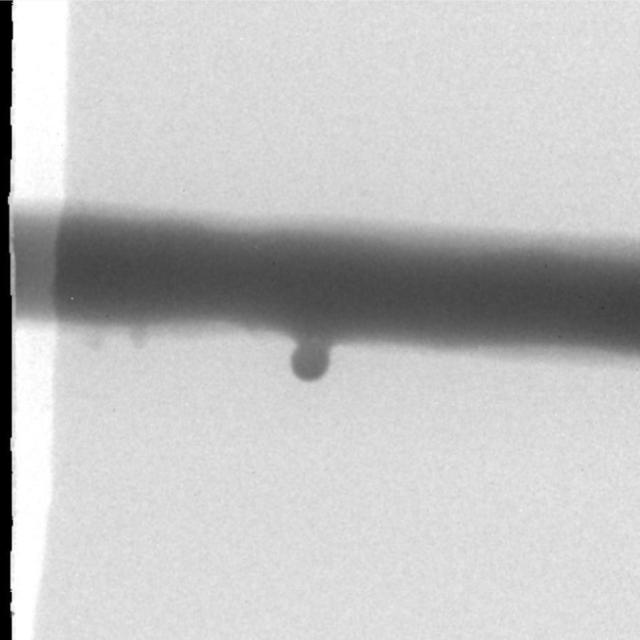overlap: (287, 329, 331, 382)
